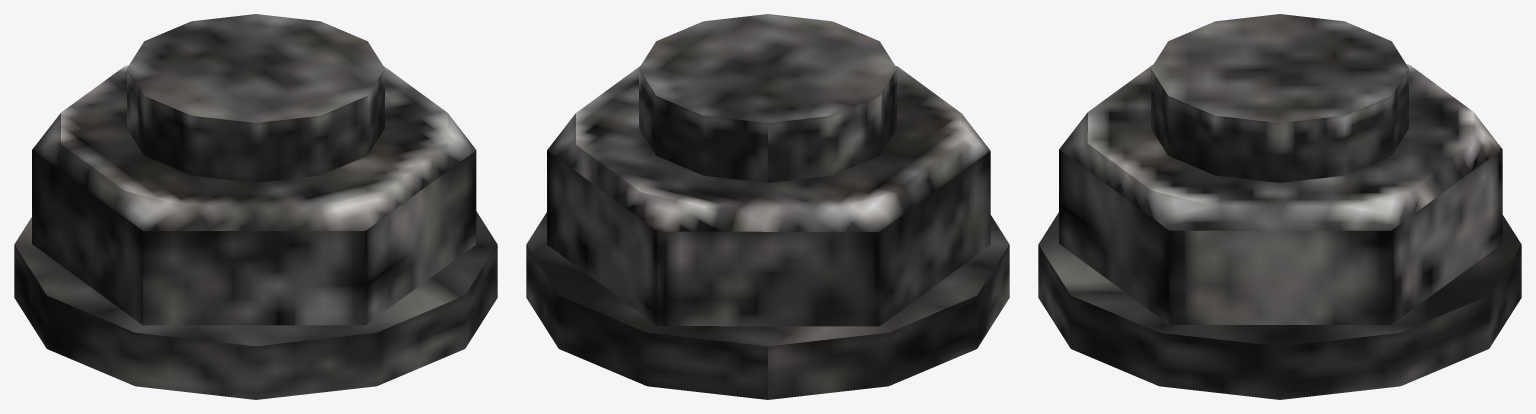
File: p_rus_angle_plate_bolt_lod0.glb
3 renders of one model, left to right at view 1: azimuth 30°, elevation 25°; view 2: azimuth 150°, elevation 25°; view 3: azimuth 270°, elevation 25°, orthographic.
Parts seen in each view (by area): view 1: surf0; view 2: surf0; view 3: surf0.
Boxes of the visible parts, left/top/right/bottom form: surf0: left=14, top=14, right=497, bottom=399; surf0: left=526, top=14, right=1009, bottom=399; surf0: left=1038, top=14, right=1521, bottom=399.
Size of the model in its own units: 2.16 by 1.13 by 2.16.
